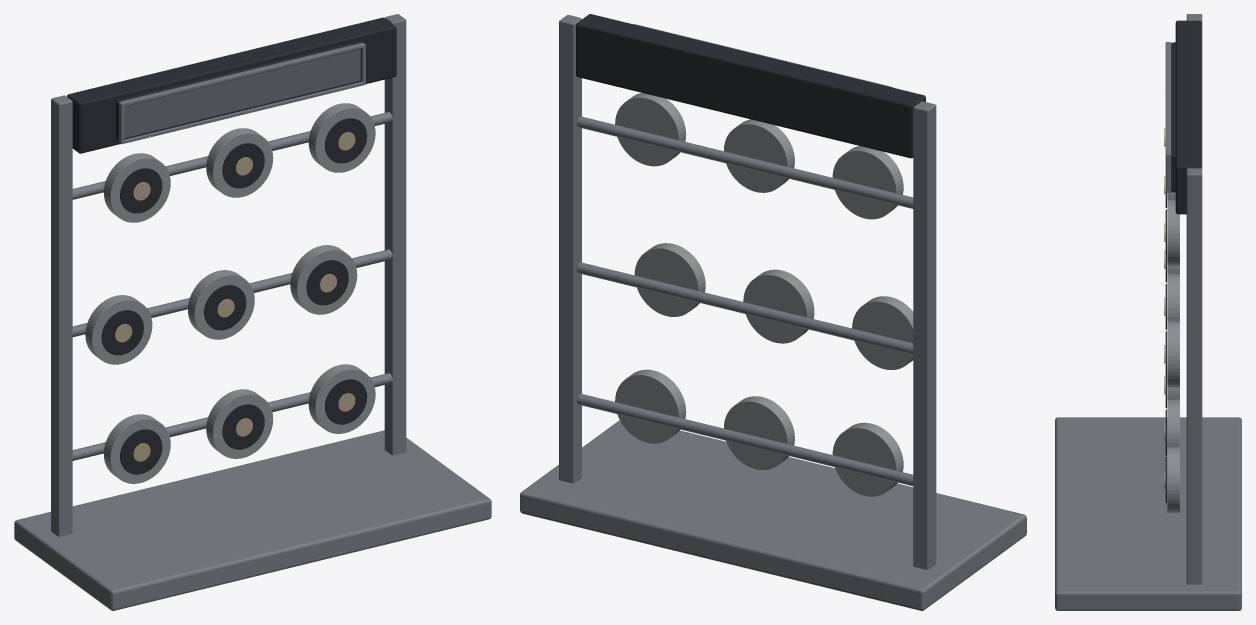
File: BL_TrialTargetRail.fbx
The picture shows the model from 3 angles, left to right: view 1: azimuth 30°, elevation 25°; view 2: azimuth 150°, elevation 25°; view 3: azimuth 270°, elevation 25°; orthographic projection. The views are drawn at different scales.
Parts seen in each view (by area): view 1: BL_TrialTargetRail_LOD0; view 2: BL_TrialTargetRail_LOD0; view 3: BL_TrialTargetRail_LOD0.
Boxes of the visible parts, x1,y1,x2,y2 form: BL_TrialTargetRail_LOD0: [14, 14, 491, 610]; BL_TrialTargetRail_LOD0: [520, 14, 1026, 610]; BL_TrialTargetRail_LOD0: [1055, 14, 1241, 610].
Size of what is drawn, in the model's own units: 290 by 330 by 130.
